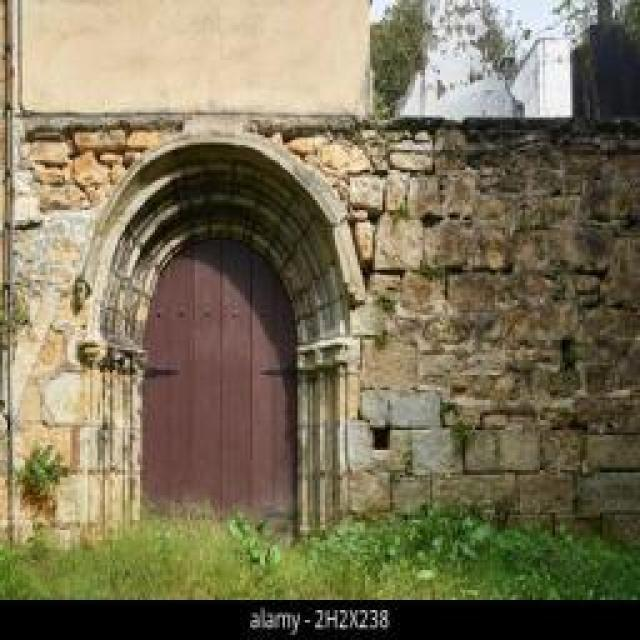Crack: (2, 113, 638, 547)
